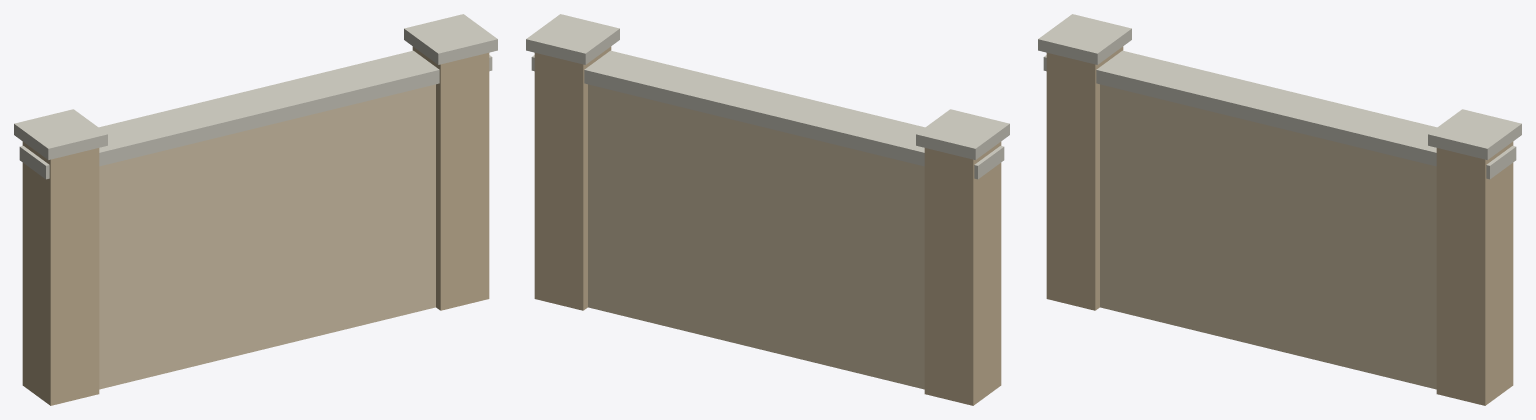
File: wall_courtyard_a.glb
3 views of the same model, side by side, from view 1: azimuth 30°, elevation 25°; view 2: azimuth 150°, elevation 25°; view 3: azimuth 330°, elevation 25° (orthographic).
Visible parts, largest first — view 1: LOD0; view 2: LOD0; view 3: LOD0.
Boxes of the visible parts, x1,y1,x2,y2 form: LOD0: [14, 14, 497, 405]; LOD0: [526, 14, 1009, 405]; LOD0: [1038, 14, 1521, 405].
Bounding box in the file's own units: 4.15 × 2.3 × 0.55.
